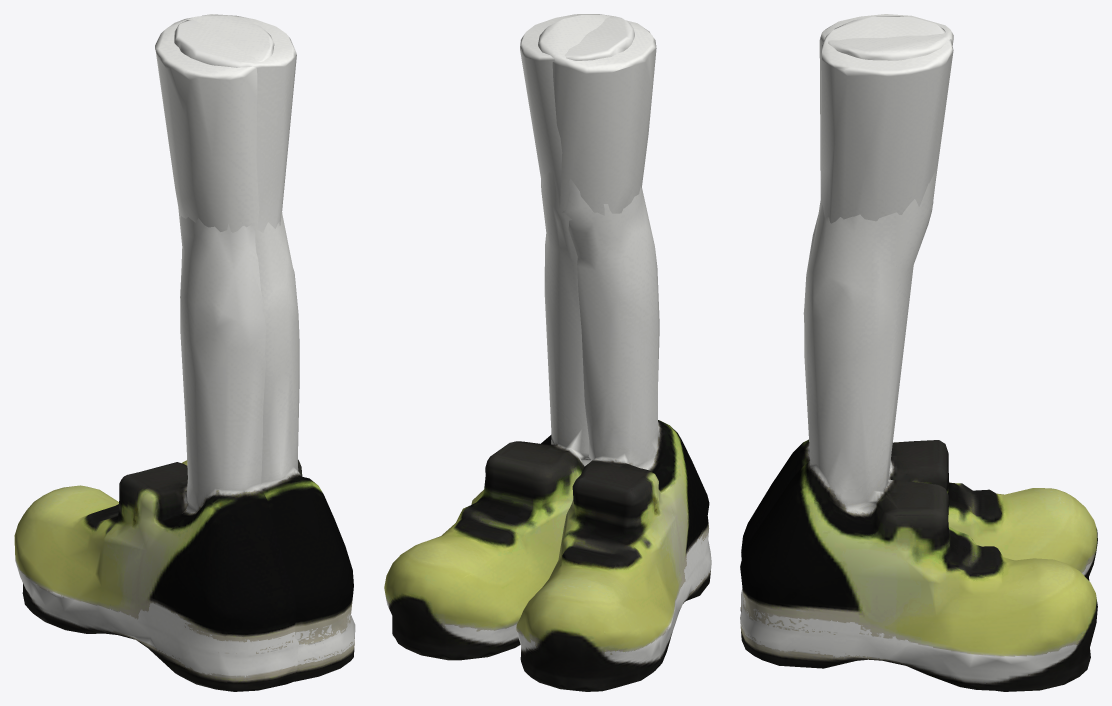
Rendered from legs-rbx1718.glb.
3 views of the same model, side by side, from view 1: azimuth 30°, elevation 25°; view 2: azimuth 150°, elevation 25°; view 3: azimuth 270°, elevation 25° (orthographic). The views are drawn at different scales.
Parts seen in each view (by area): view 1: thighL__whole, thighR__whole; view 2: thighL__whole, thighR__whole; view 3: thighR__whole, thighL__whole.
Boxes of the visible parts, x1,y1,x2,y2 form: thighL__whole: (14,14,298,691); thighR__whole: (155,14,355,681); thighL__whole: (516,14,711,691); thighR__whole: (384,15,656,660); thighR__whole: (740,14,1097,691); thighL__whole: (740,16,1097,611).
Size of the model in its own units: 0.2876 by 0.6129 by 0.3327.
2 materials, 2 textured.
